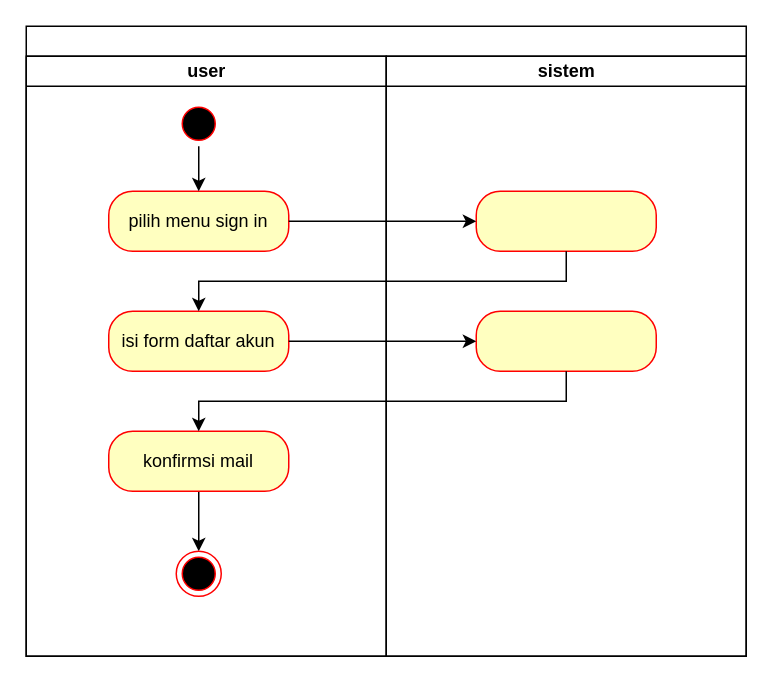
The diagram is 773 pixels wide and 683 high, and some of its shapes have lost their labels. The box of each missing label's shape, as (x1, y1, x2, y2) in pixels:
kirim email konfirmasi akun: (475, 310, 656, 371)
menampilkan form: (475, 190, 656, 251)
